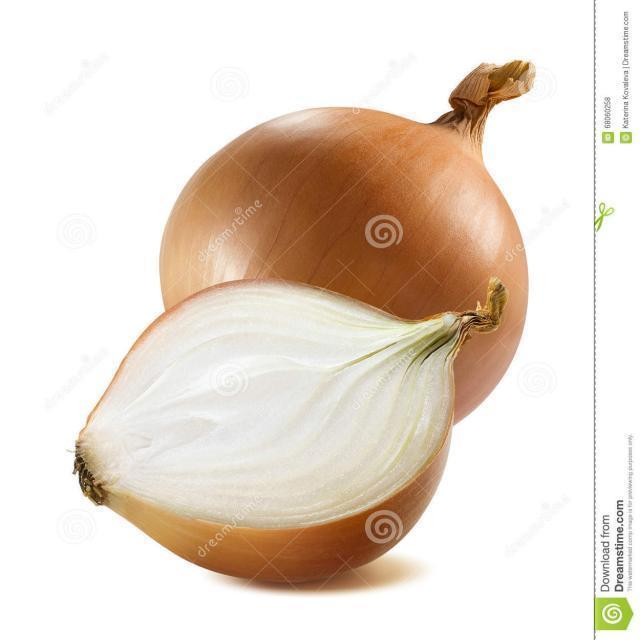Onion: (157, 59, 537, 424), (73, 278, 500, 590)
